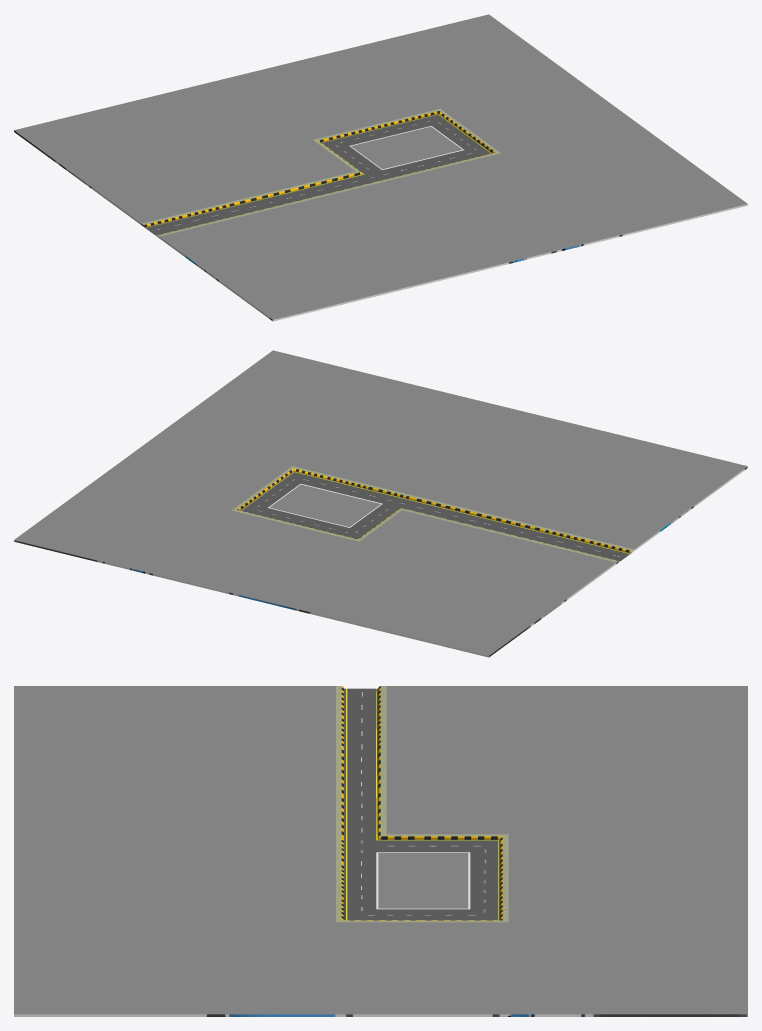
File: city_2_ground.fbx
3 renders of one model, top to bottom at view 1: azimuth 30°, elevation 25°; view 2: azimuth 150°, elevation 25°; view 3: azimuth 270°, elevation 25°, orthographic. The views are drawn at different scales.
Parts seen in each view (by area): view 1: road_ground; view 2: road_ground; view 3: road_ground.
Boxes of the visible parts, x1,y1,x2,y2 form: road_ground: (14,14,747,321); road_ground: (14,350,747,657); road_ground: (14,686,747,1016).
Bounding box in the file's own units: 1992 × 7.03 × 1881.
